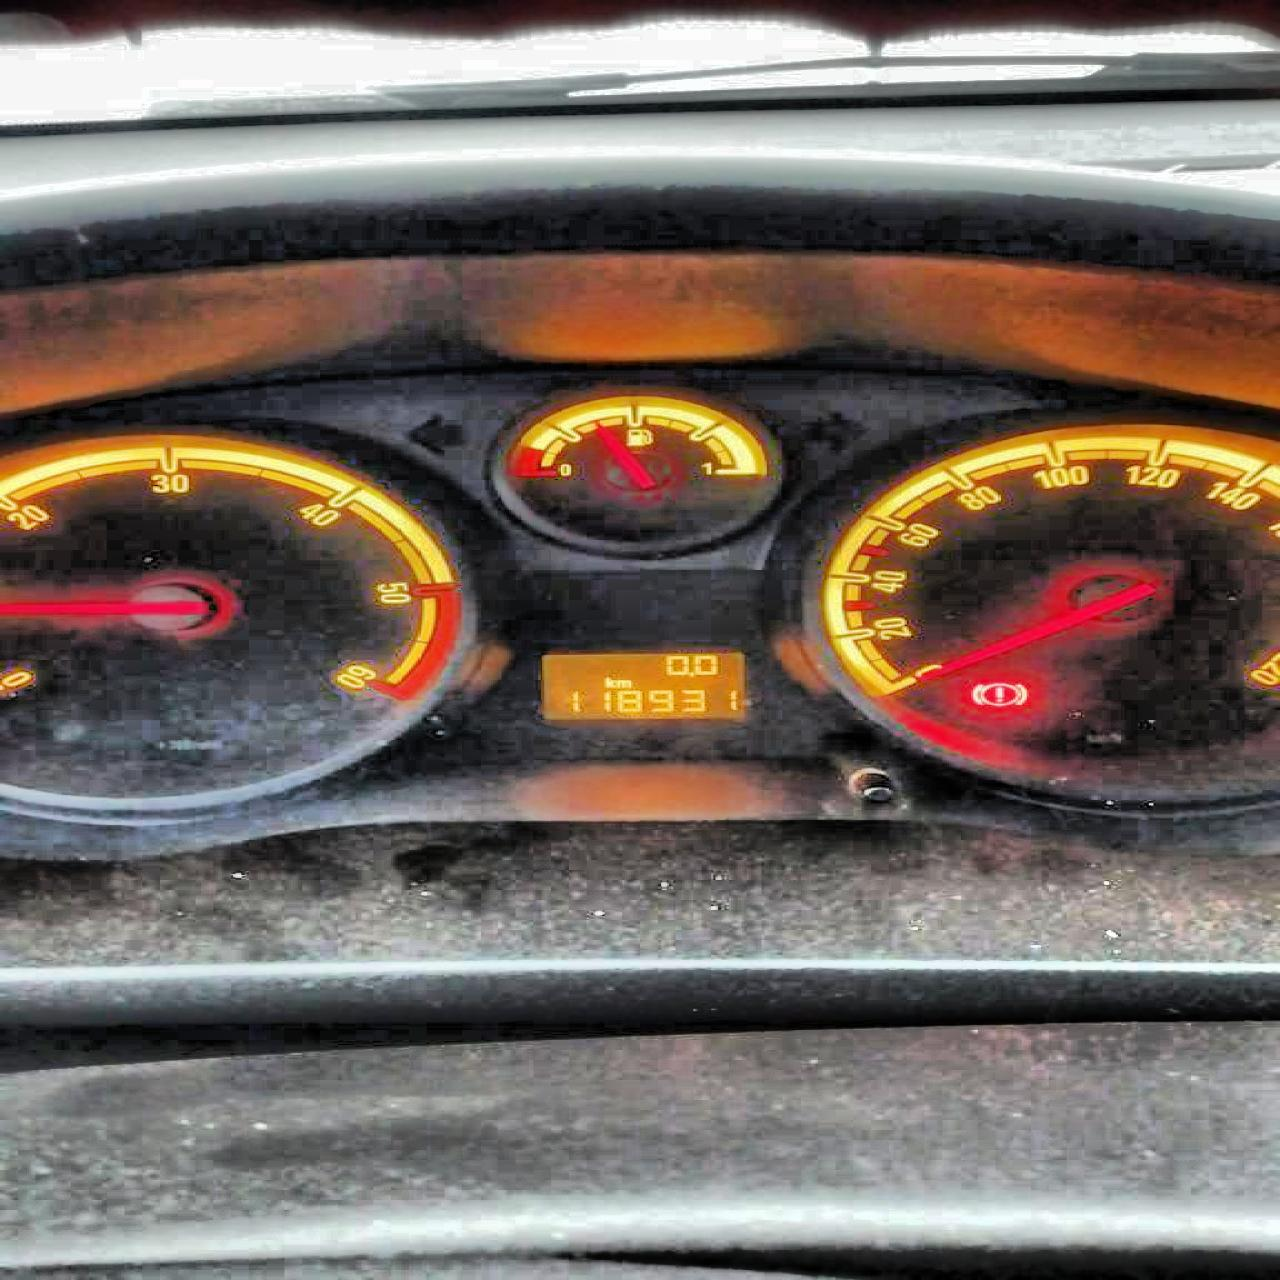-: (687, 672, 693, 678)
0: (662, 653, 687, 675), (692, 654, 717, 675)
1: (593, 689, 613, 712), (567, 688, 583, 713), (722, 688, 737, 710)
3: (678, 688, 707, 712)
8: (613, 688, 640, 713)
9: (645, 688, 675, 713)
X: (613, 678, 631, 688), (600, 674, 613, 688)
odometer: (531, 648, 751, 722)
